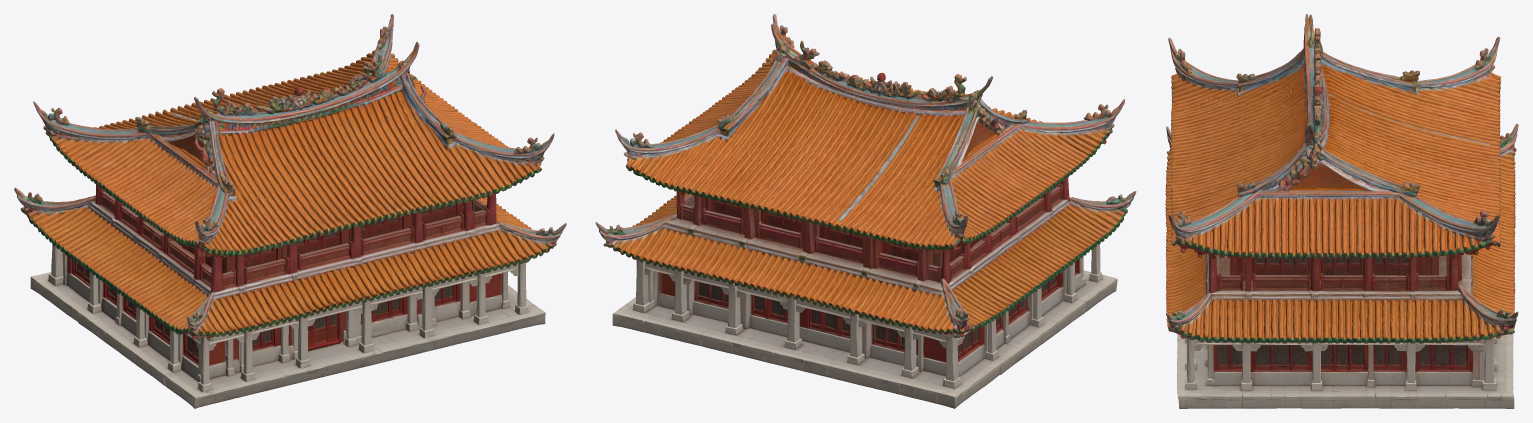
Rendered from dressing-tower.glb.
3 renders of one model, left to right at view 1: azimuth 30°, elevation 25°; view 2: azimuth 150°, elevation 25°; view 3: azimuth 270°, elevation 25°, orthographic. The views are drawn at different scales.
Parts seen in each view (by area): view 1: model; view 2: model; view 3: model.
Part boxes in pixels (bbox=[...]): model: bbox=[14, 14, 566, 408]; model: bbox=[595, 14, 1136, 408]; model: bbox=[1165, 14, 1518, 408].
Size of the model in its own units: 1.89 by 1.19 by 1.5.
1 material, 1 textured.
